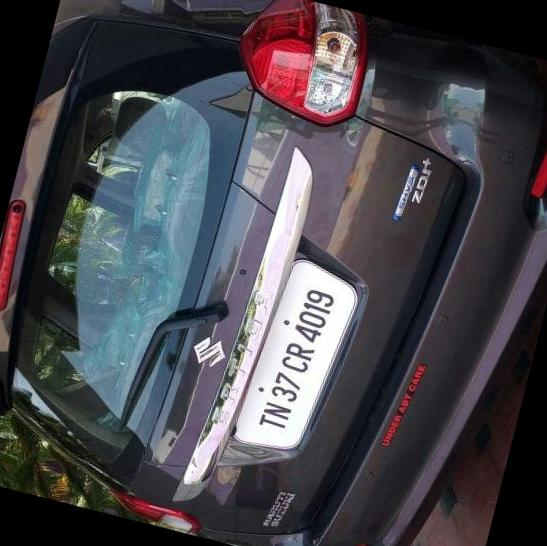plate: (210, 241, 371, 471)
